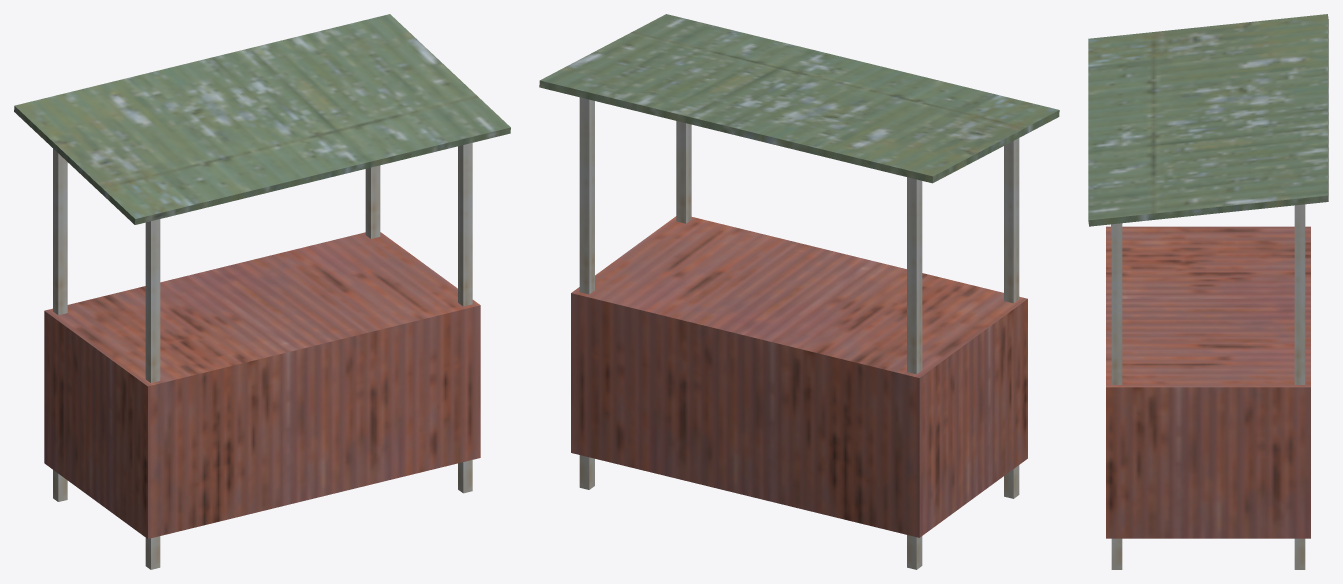
File: MarketStall_3.fbx
3 renders of one model, left to right at view 1: azimuth 30°, elevation 25°; view 2: azimuth 150°, elevation 25°; view 3: azimuth 270°, elevation 25°, orthographic. The views are drawn at different scales.
Parts seen in each view (by area): view 1: MarketStall_3; view 2: MarketStall_3; view 3: MarketStall_3.
Boxes of the visible parts, x1,y1,x2,y2 form: MarketStall_3: [14, 14, 510, 569]; MarketStall_3: [539, 14, 1059, 569]; MarketStall_3: [1088, 14, 1328, 569].
Bounding box in the file's own units: 226 × 224 × 126.
